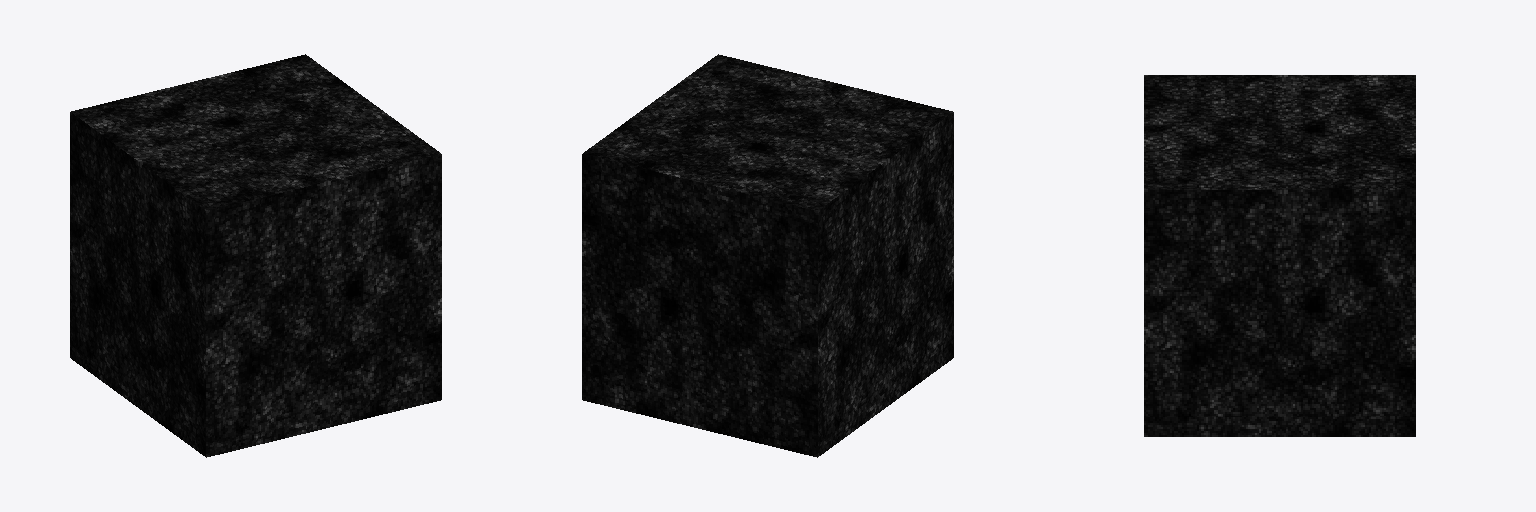
3 views of the same model, side by side, from view 1: azimuth 30°, elevation 25°; view 2: azimuth 150°, elevation 25°; view 3: azimuth 270°, elevation 25° (orthographic).
Visible parts, largest first — view 1: Cube; view 2: Cube; view 3: Cube.
Part boxes in pixels (left/top/right/bottom): Cube: left=70, top=54, right=441, bottom=457; Cube: left=582, top=54, right=953, bottom=457; Cube: left=1144, top=75, right=1415, bottom=436.
Bounding box in the file's own units: 2 × 2 × 2.
1 materials, 1 textured.